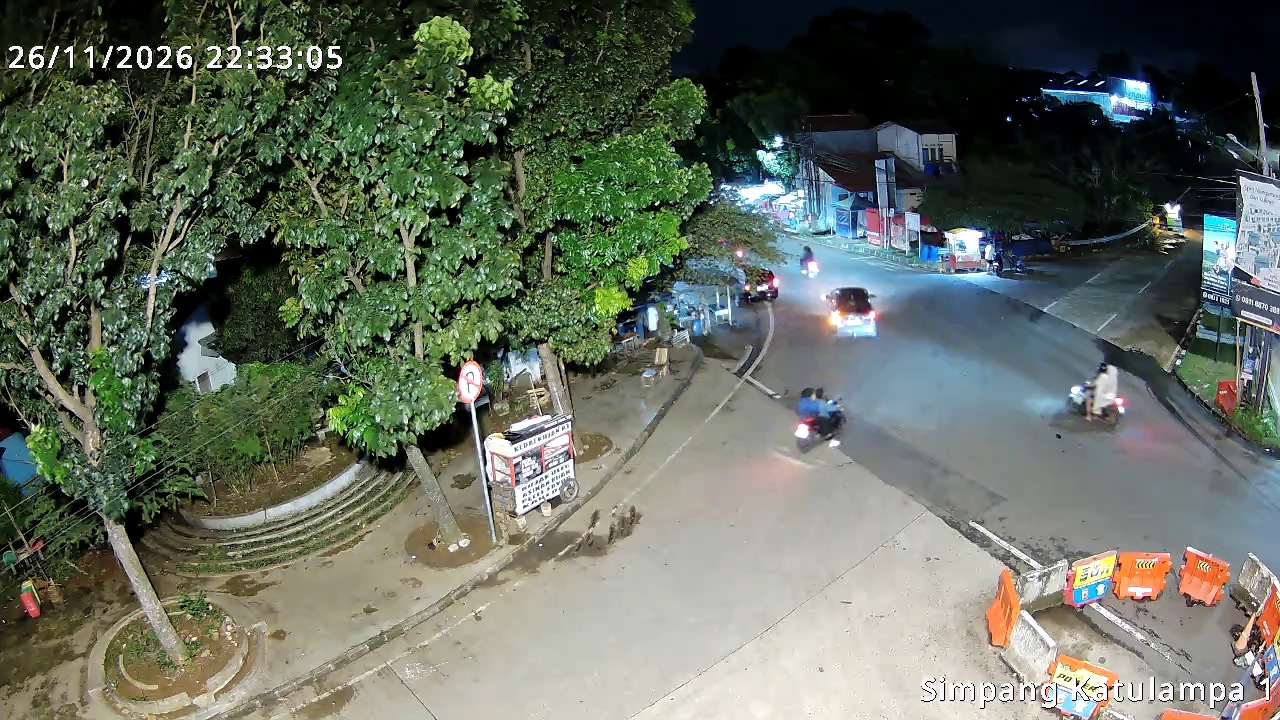Gerobak: (483, 413, 579, 520)
